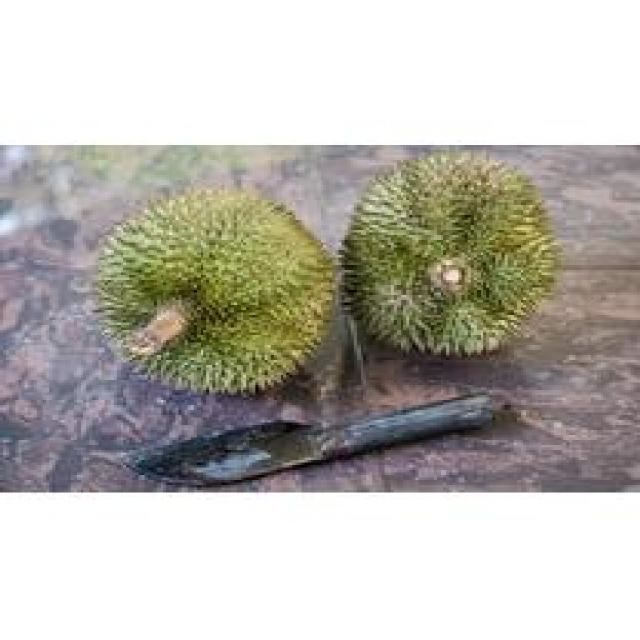fruit: (71, 162, 354, 420), (329, 142, 563, 378)
